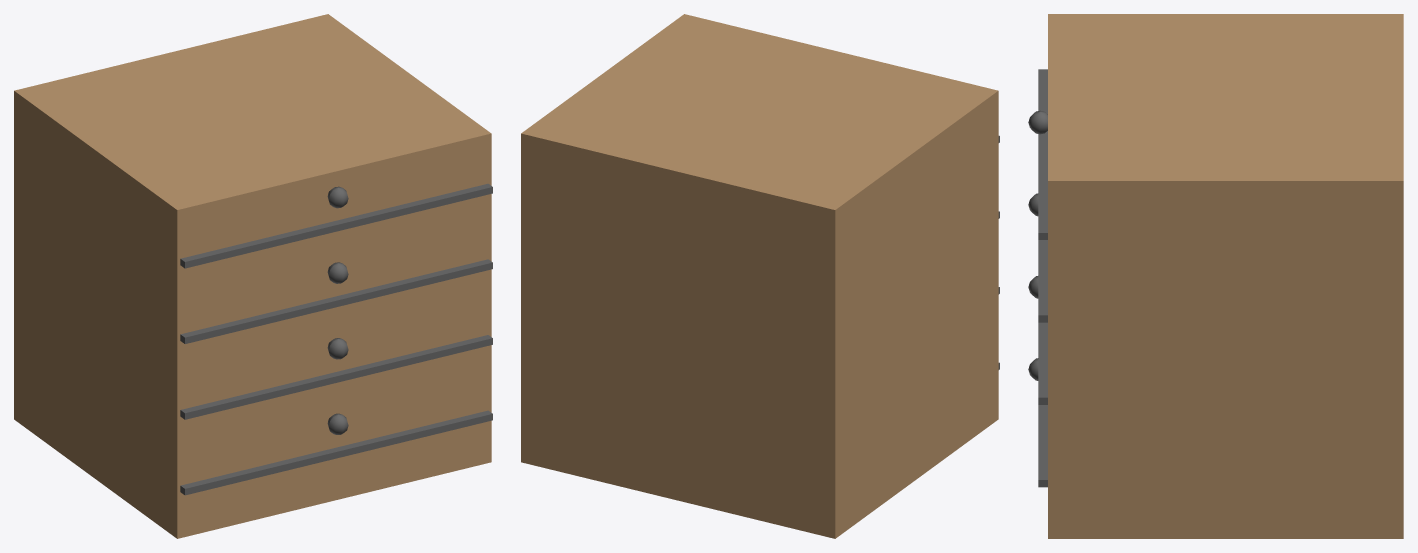
File: dresser.gltf
The picture shows the model from 3 angles, left to right: view 1: azimuth 30°, elevation 25°; view 2: azimuth 150°, elevation 25°; view 3: azimuth 270°, elevation 25°; orthographic projection. The views are drawn at different scales.
Visible parts, largest first — view 1: body, drawer_line_3, drawer_line_0, drawer_line_1, drawer_line_2; view 2: body; view 3: body, drawer_line_3, drawer_line_0, drawer_line_1, drawer_line_2.
Part boxes in pixels (<box>): body: <box>14,14,491,538</box>; drawer_line_3: <box>180,183,492,268</box>; drawer_line_0: <box>180,410,492,495</box>; drawer_line_1: <box>180,335,492,419</box>; drawer_line_2: <box>180,259,492,343</box>; body: <box>521,14,998,538</box>; body: <box>1048,14,1403,538</box>; drawer_line_3: <box>1038,69,1047,239</box>; drawer_line_0: <box>1038,405,1047,487</box>; drawer_line_1: <box>1038,322,1047,404</box>; drawer_line_2: <box>1038,240,1047,322</box>.
Size of the model in its own units: 1 by 1 by 0.95.
